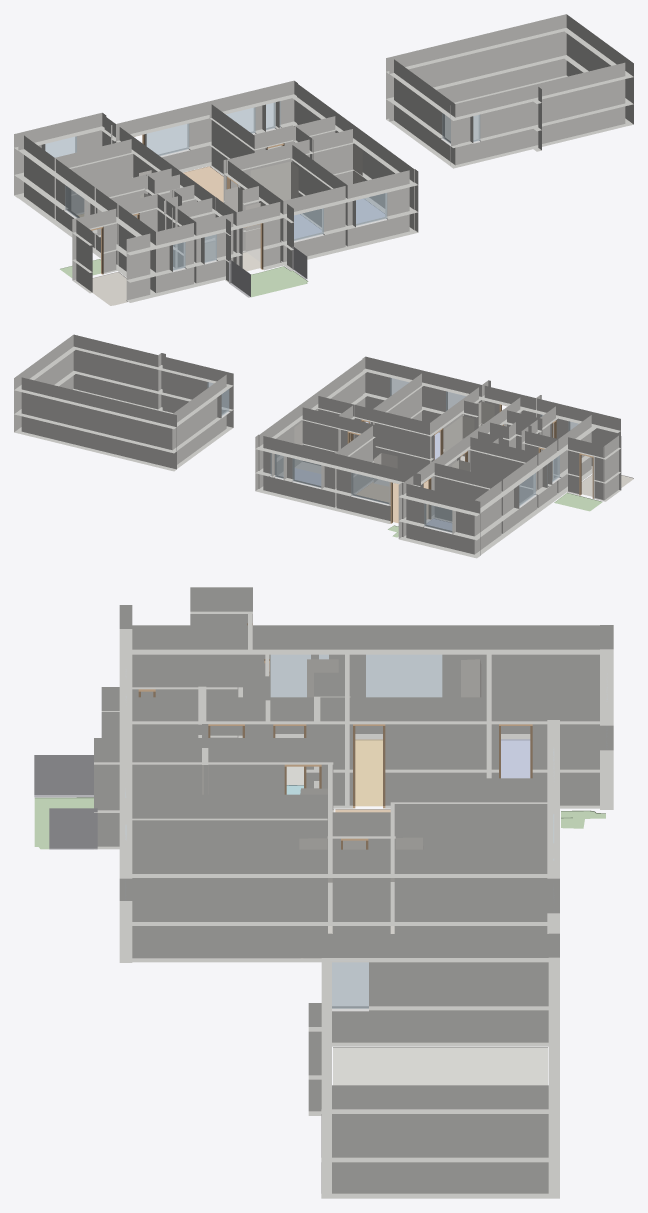
3 renders of one model, top to bottom at view 1: azimuth 30°, elevation 25°; view 2: azimuth 150°, elevation 25°; view 3: azimuth 270°, elevation 25°, orthographic. The views are drawn at different scales.
Parts seen in each view (by area): view 1: walls, furniture_6_closet, floor_18_Outdoor, window_3, floor_19_Storage, railings, window_6, window_12, floor_2_Living_Room, furniture_8_closet, window_2, floor_12_Bed_Room (+3 smaller); view 2: walls, window_3, floor_2_Living_Room, furniture_7_closet, window_1, window_2, floor_17_Outdoor, furniture_1_closet, window_0, furniture_24_fireplace, furniture_8_closet; view 3: walls, floor_1_Undefined, railings, window_0, floor_6_Kitchen, window_14, window_16, floor_18_Outdoor, floor_0_Bed_Room, furniture_1_closet.
Boxes of the visible parts, x1,y1,x2,y2 form: walls: (14, 14, 633, 302); furniture_6_closet: (250, 161, 298, 200); floor_18_Outdoor: (251, 266, 308, 297); window_3: (146, 123, 189, 155); floor_19_Storage: (92, 272, 127, 305); railings: (229, 247, 307, 297); window_6: (356, 193, 387, 225); window_12: (294, 208, 323, 240); floor_2_Living_Room: (183, 166, 223, 202); furniture_8_closet: (245, 202, 281, 264); window_2: (45, 136, 76, 157); floor_12_Bed_Room: (356, 198, 384, 223); walls: (14, 334, 621, 558); window_3: (351, 473, 389, 504); floor_2_Living_Room: (356, 481, 428, 523); furniture_7_closet: (444, 416, 474, 461); window_1: (292, 458, 321, 487); window_2: (424, 504, 452, 532); floor_17_Outdoor: (554, 492, 602, 511); furniture_1_closet: (294, 409, 365, 473); window_0: (519, 473, 535, 506); furniture_24_fireplace: (373, 453, 397, 486); furniture_8_closet: (463, 401, 494, 427); walls: (94, 587, 613, 1198); floor_1_Undefined: (333, 1047, 547, 1085); railings: (34, 755, 97, 849); window_0: (366, 654, 442, 697); floor_6_Kitchen: (355, 739, 382, 806); window_14: (332, 962, 368, 1008); window_16: (270, 654, 310, 697); floor_18_Outdoor: (34, 797, 93, 849); floor_0_Bed_Room: (501, 739, 530, 778); furniture_1_closet: (299, 837, 423, 958).
Size of the model in its own units: 26.81 by 2.72 by 13.06.
